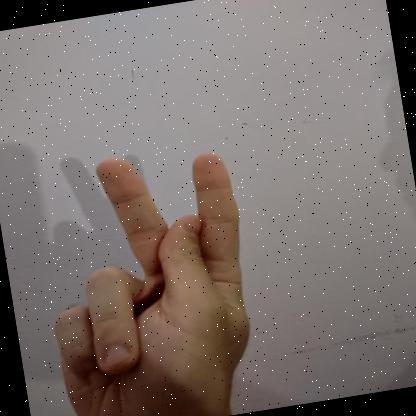K: (54, 152, 249, 416)
